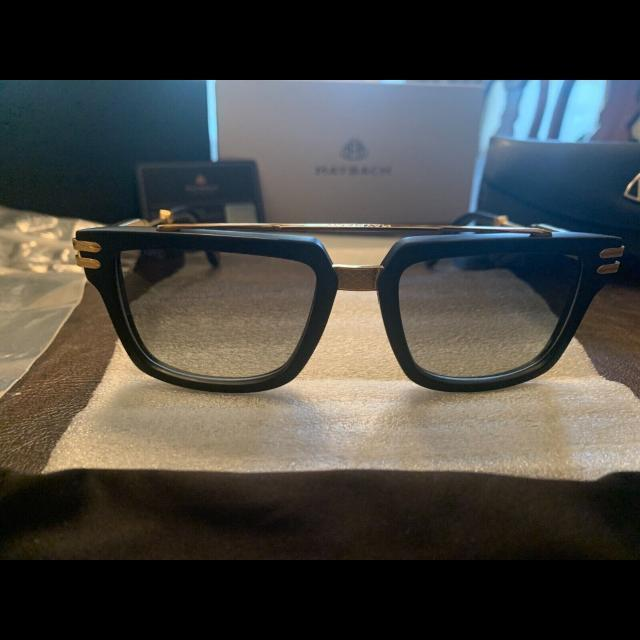sunglasses: (73, 202, 623, 394)
